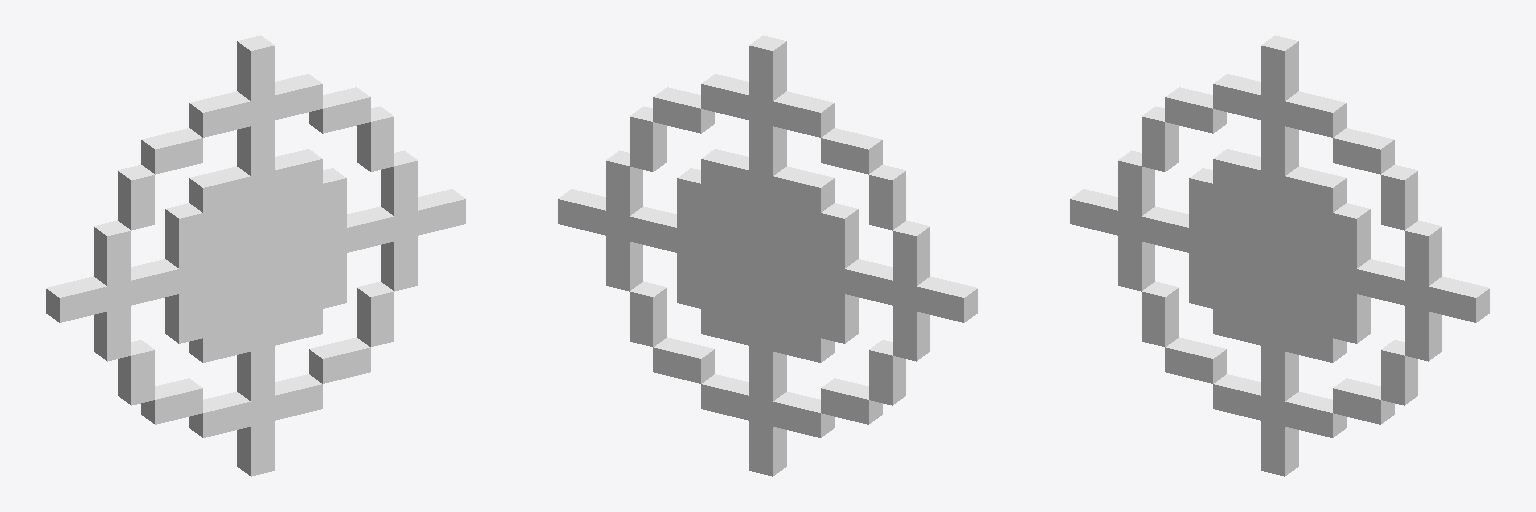
File: singshot.obj
The picture shows the model from 3 angles: view 1: azimuth 30°, elevation 25°; view 2: azimuth 150°, elevation 25°; view 3: azimuth 330°, elevation 25°; orthographic projection.
Parts seen in each view (by area): view 1: object 1; view 2: object 1; view 3: object 1.
Boxes of the visible parts, x1,y1,x2,y2 form: object 1: [46, 35, 465, 476]; object 1: [558, 35, 977, 476]; object 1: [1070, 35, 1489, 476].
Size of the model in its own units: 1.7 by 1.7 by 0.1.